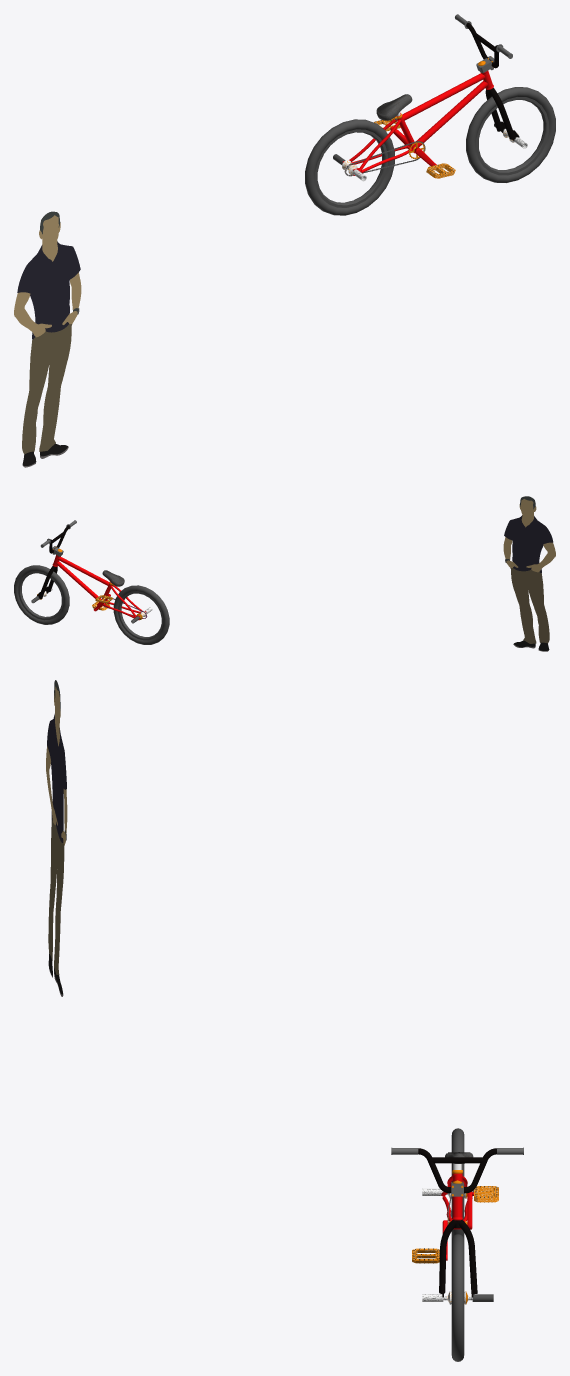
The model's file is Bmx bike.dae.
The picture shows the model from 3 angles, top to bottom: view 1: azimuth 30°, elevation 25°; view 2: azimuth 150°, elevation 25°; view 3: azimuth 270°, elevation 25°; orthographic projection. The views are drawn at different scales.
Parts seen in each view (by area): view 1: Chris (×4), Component_28 (×2), frame, Component_3 (×2), fork; view 2: Chris (×4), Component_28 (×2), frame, Component_3 (×3), fork; view 3: Chris (×2), Component_28, fork.
Boxes of the visible parts, left/top/right/bottom form: Chris (×4): left=14, top=215, right=80, bottom=454; Component_28 (×2): left=305, top=87, right=555, bottom=215; frame: left=342, top=70, right=493, bottom=175; Component_3 (×2): left=315, top=97, right=548, bottom=207; fork: left=485, top=88, right=519, bottom=141; Chris (×4): left=504, top=499, right=555, bottom=643; Component_28 (×2): left=14, top=565, right=169, bottom=644; frame: left=52, top=555, right=146, bottom=620; Component_3 (×3): left=18, top=571, right=163, bottom=640; fork: left=37, top=566, right=57, bottom=598; Chris (×2): left=47, top=714, right=66, bottom=974; Component_28: left=451, top=1234, right=464, bottom=1361; fork: left=439, top=1220, right=477, bottom=1297.
Bounding box in the file's own units: 208 × 98.3 × 69.5.
